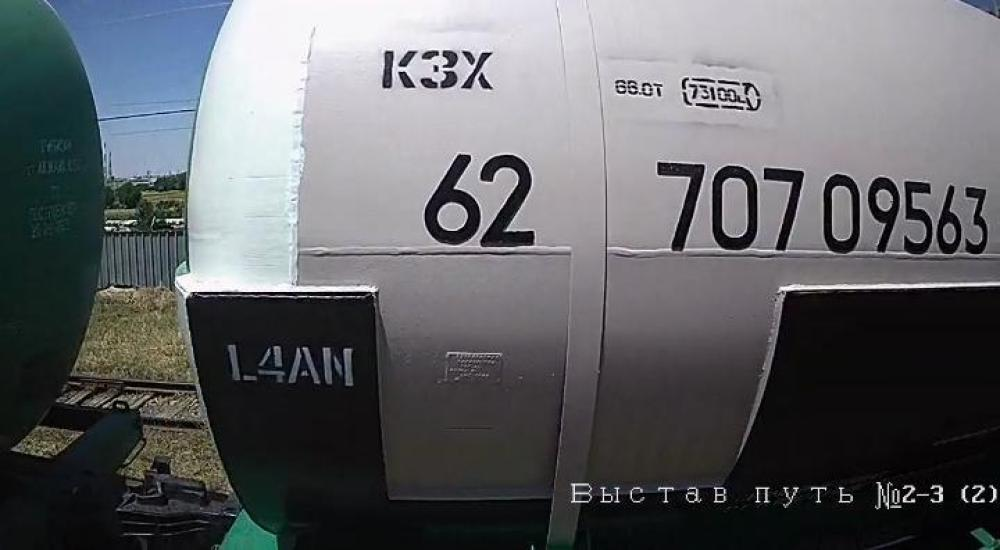Wagon-number: (650, 158, 991, 259)
